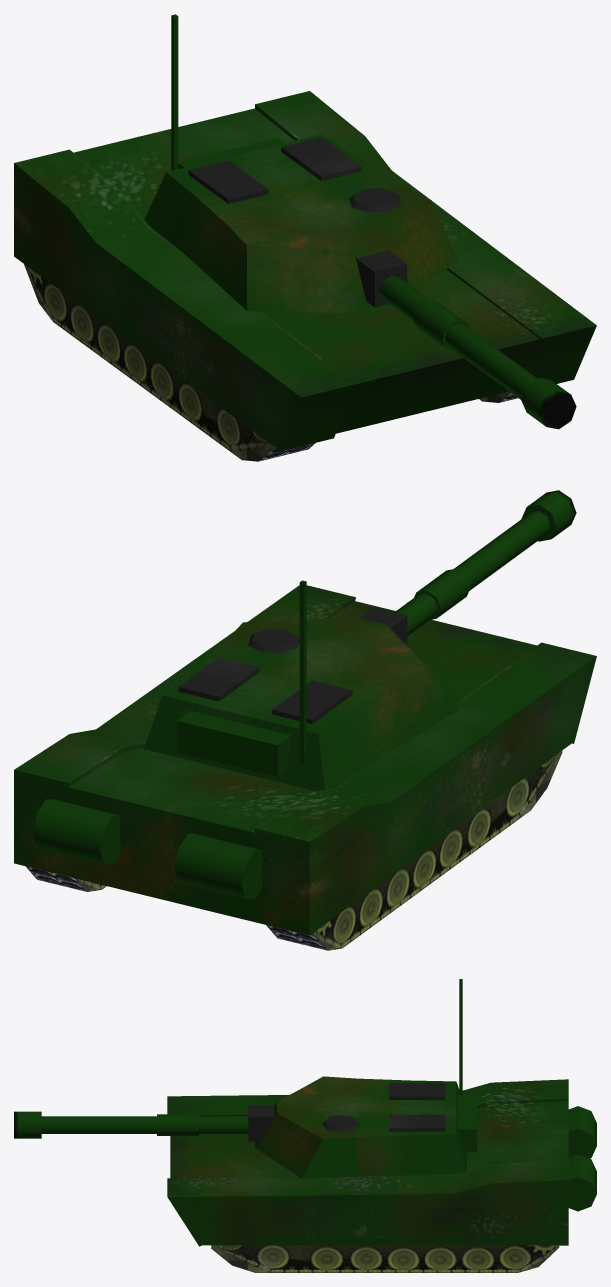
The model's file is Tank.FBX.
3 renders of one model, top to bottom at view 1: azimuth 30°, elevation 25°; view 2: azimuth 150°, elevation 25°; view 3: azimuth 270°, elevation 25°, orthographic. The views are drawn at different scales.
Parts seen in each view (by area): view 1: Tank; view 2: Tank; view 3: Tank.
Boxes of the visible parts, x1,y1,x2,y2 form: Tank: (14, 14, 596, 461); Tank: (14, 490, 596, 950); Tank: (14, 979, 596, 1272).
Size of the model in its own units: 46.21 by 47.32 by 113.
